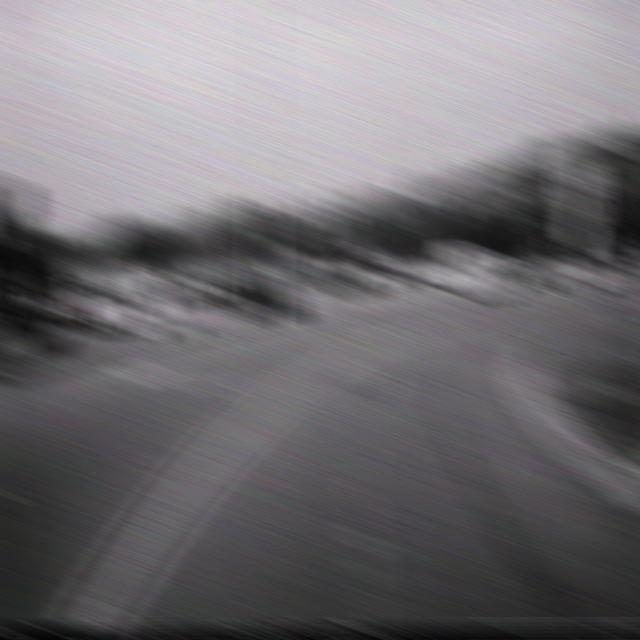speedLimit30: (558, 148, 601, 217)
